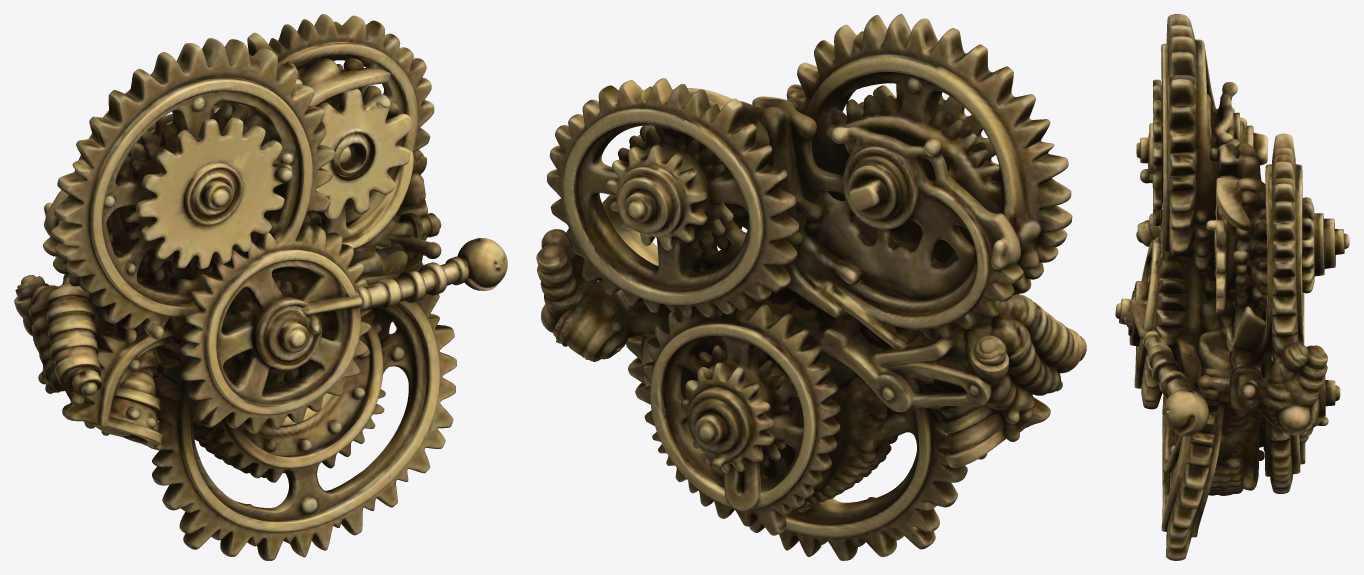
The model's file is gear-mesh.glb.
The picture shows the model from 3 angles, left to right: view 1: azimuth 30°, elevation 25°; view 2: azimuth 150°, elevation 25°; view 3: azimuth 270°, elevation 25°; orthographic projection. The views are drawn at different scales.
Parts seen in each view (by area): view 1: node_0; view 2: node_0; view 3: node_0.
Boxes of the visible parts, bbox=[...] form: node_0: bbox=[14, 14, 507, 560]; node_0: bbox=[536, 14, 1086, 560]; node_0: bbox=[1115, 14, 1349, 560].
Bounding box in the file's own units: 0.9541 × 1.07 × 0.4767.
Materials: 1 (1 with a texture image).
